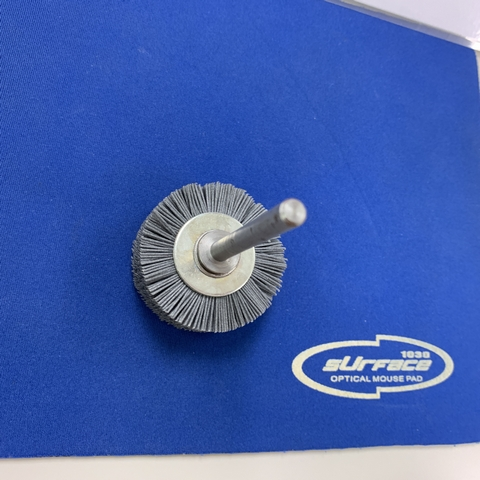Wheel Brush: (122, 169, 307, 353), (114, 182, 329, 336), (133, 181, 326, 338), (132, 154, 284, 340)
